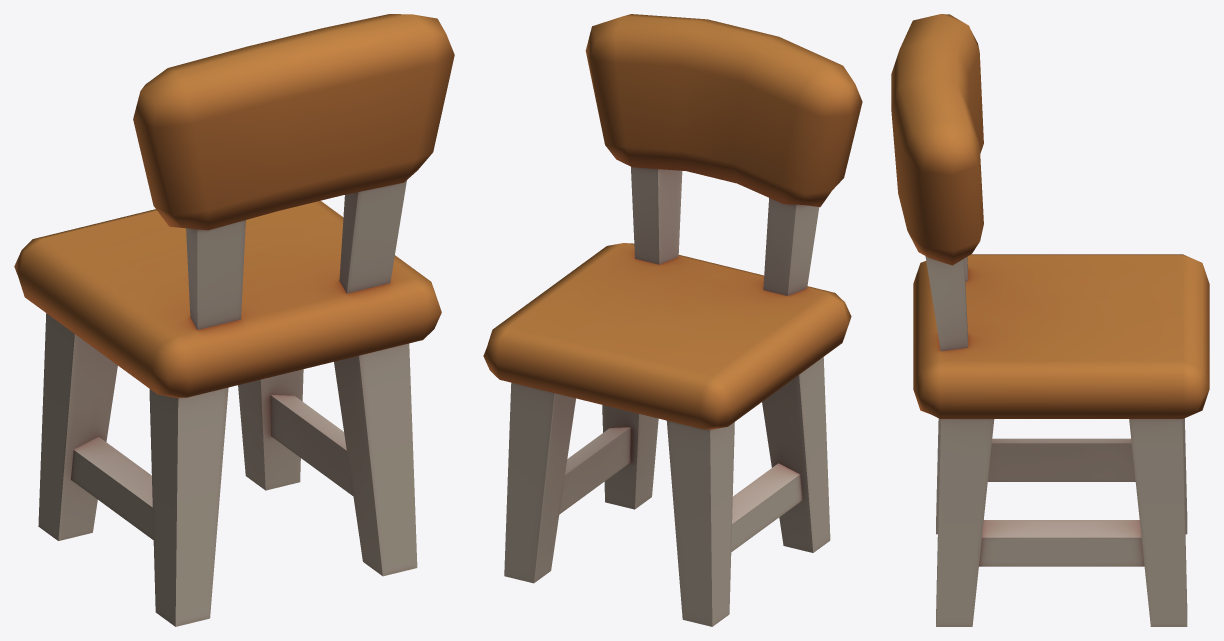
File: chair_01.fbx
The picture shows the model from 3 angles, left to right: view 1: azimuth 30°, elevation 25°; view 2: azimuth 150°, elevation 25°; view 3: azimuth 270°, elevation 25°; orthographic projection. The views are drawn at different scales.
Parts seen in each view (by area): view 1: chair_01_ready; view 2: chair_01_ready; view 3: chair_01_ready.
Part boxes in pixels (bbox=[...]): chair_01_ready: bbox=[14, 14, 454, 626]; chair_01_ready: bbox=[483, 14, 862, 626]; chair_01_ready: bbox=[891, 14, 1209, 626].
Bounding box in the file's own units: 52.34 × 91.15 × 51.16.
